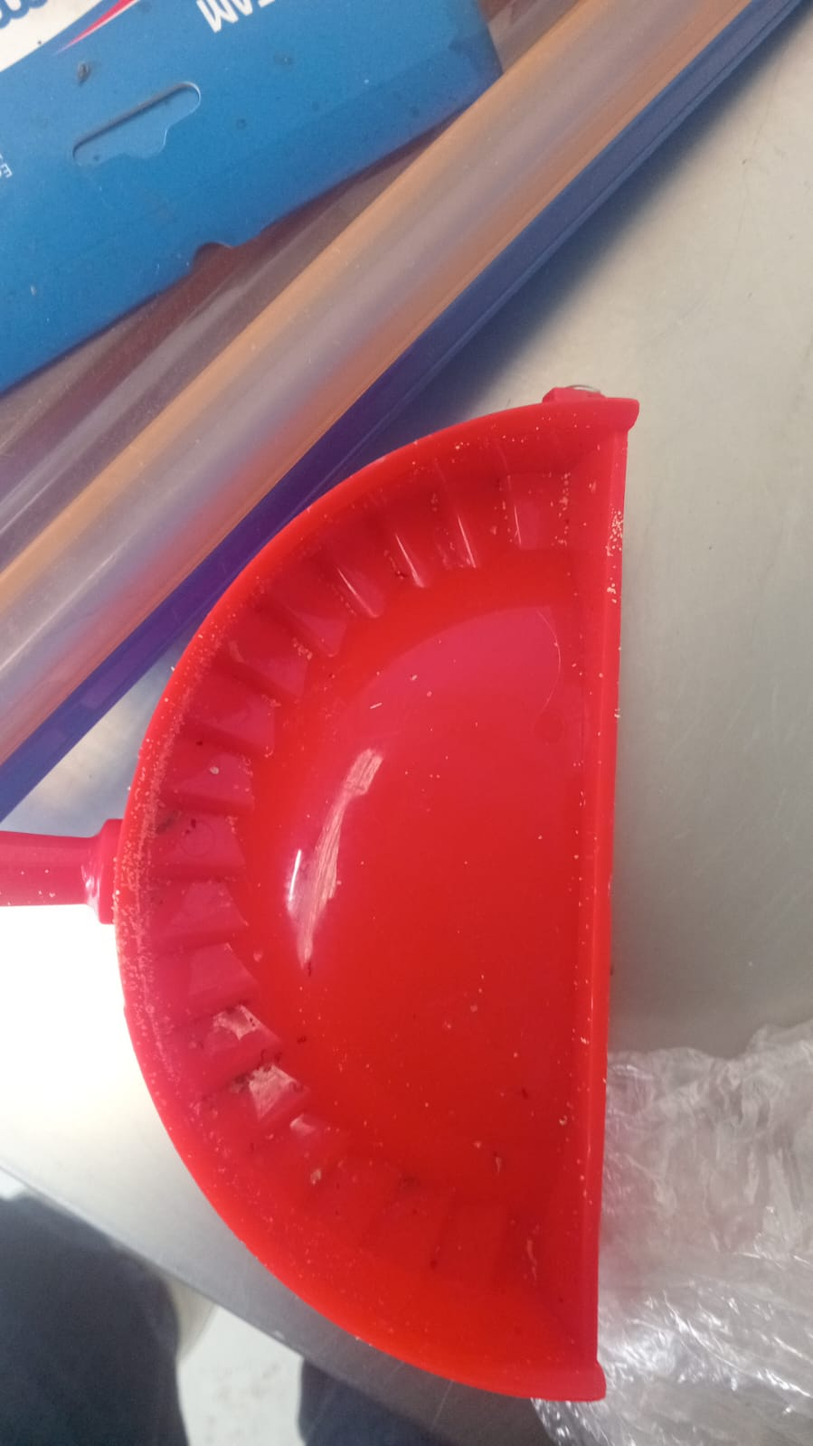Plastico: (0, 391, 639, 1404)
